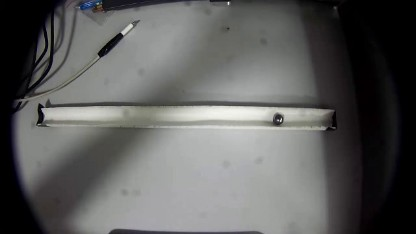gangzhu: (271, 112, 284, 125)
